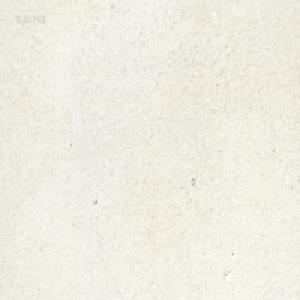Washer: (190, 176, 195, 186)
